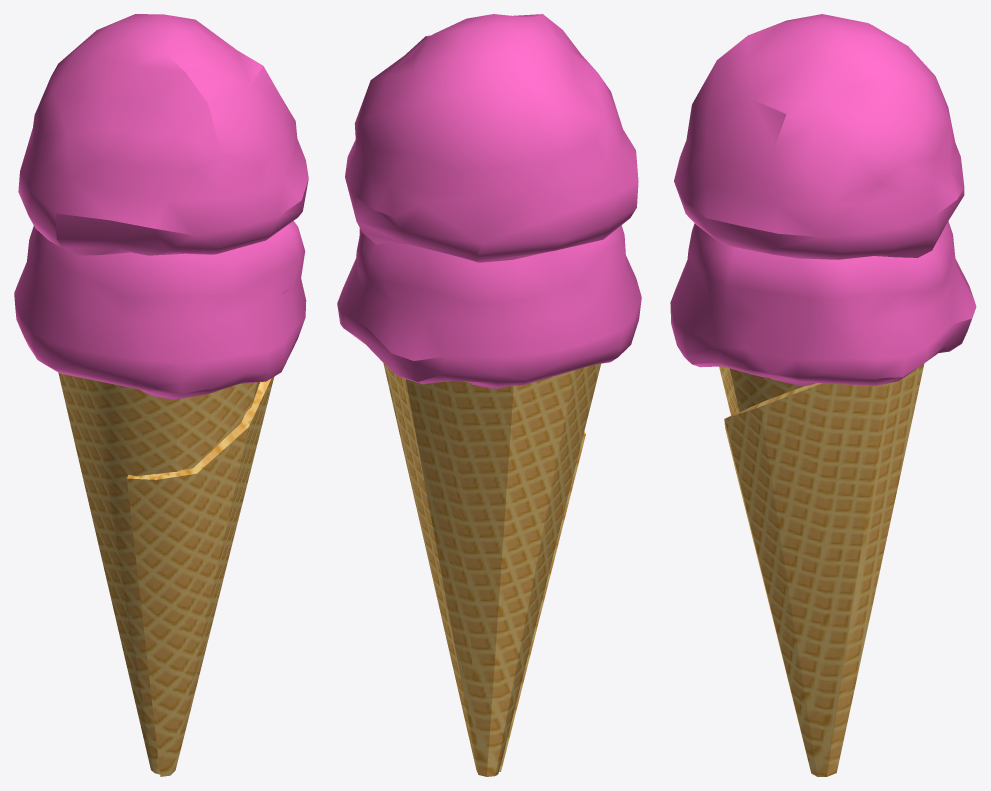
The picture shows the model from 3 angles, left to right: view 1: azimuth 30°, elevation 25°; view 2: azimuth 150°, elevation 25°; view 3: azimuth 270°, elevation 25°; orthographic projection.
Visible parts, largest first — view 1: Object_3; view 2: Object_3; view 3: Object_3.
Part boxes in pixels (box(x1,y1,x2,y2)): Object_3: box(14, 14, 308, 776); Object_3: box(337, 14, 641, 776); Object_3: box(670, 14, 976, 776).
Size of the model in its own units: 0.1197 by 0.333 by 0.1236.
Materials: 1 (1 with a texture image).
